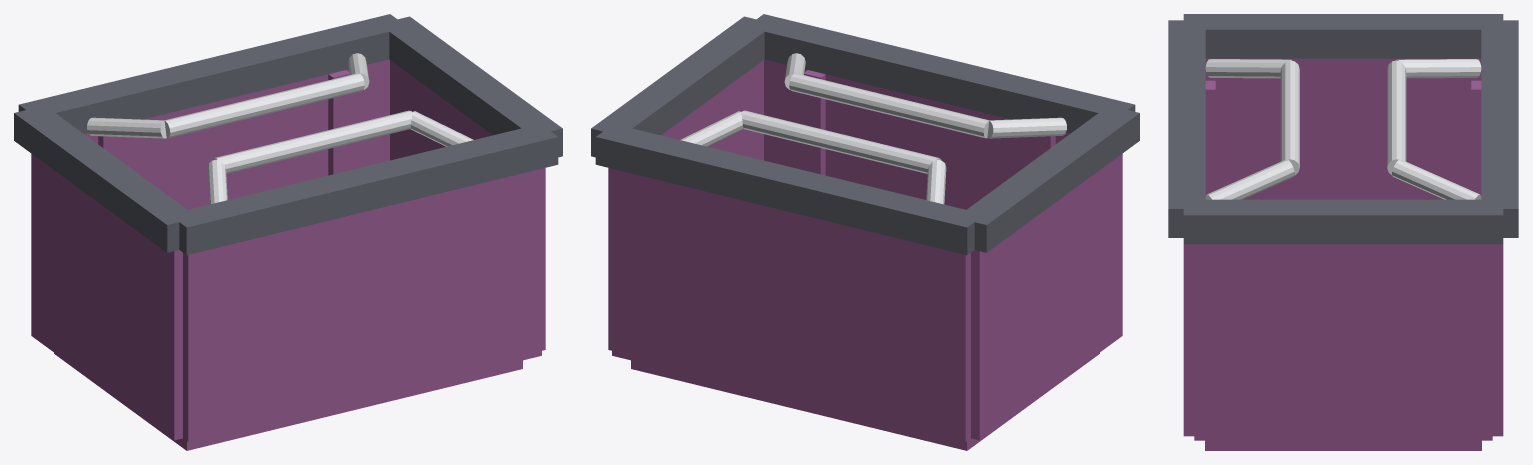
File: pharmacy-and-high-street-chemist-hand-basket-8e0fb9f7__37512.glb
3 views of the same model, side by side, from view 1: azimuth 30°, elevation 25°; view 2: azimuth 150°, elevation 25°; view 3: azimuth 270°, elevation 25° (orthographic). The views are drawn at different scales.
Visible parts, largest first — view 1: hand-basket; view 2: hand-basket; view 3: hand-basket.
Part boxes in pixels (x1,y1,x2,y2): hand-basket: (14,14,562,450); hand-basket: (591,14,1139,450); hand-basket: (1168,14,1518,450).
Bounding box in the file's own units: 0.4476 × 0.265 × 0.329.
